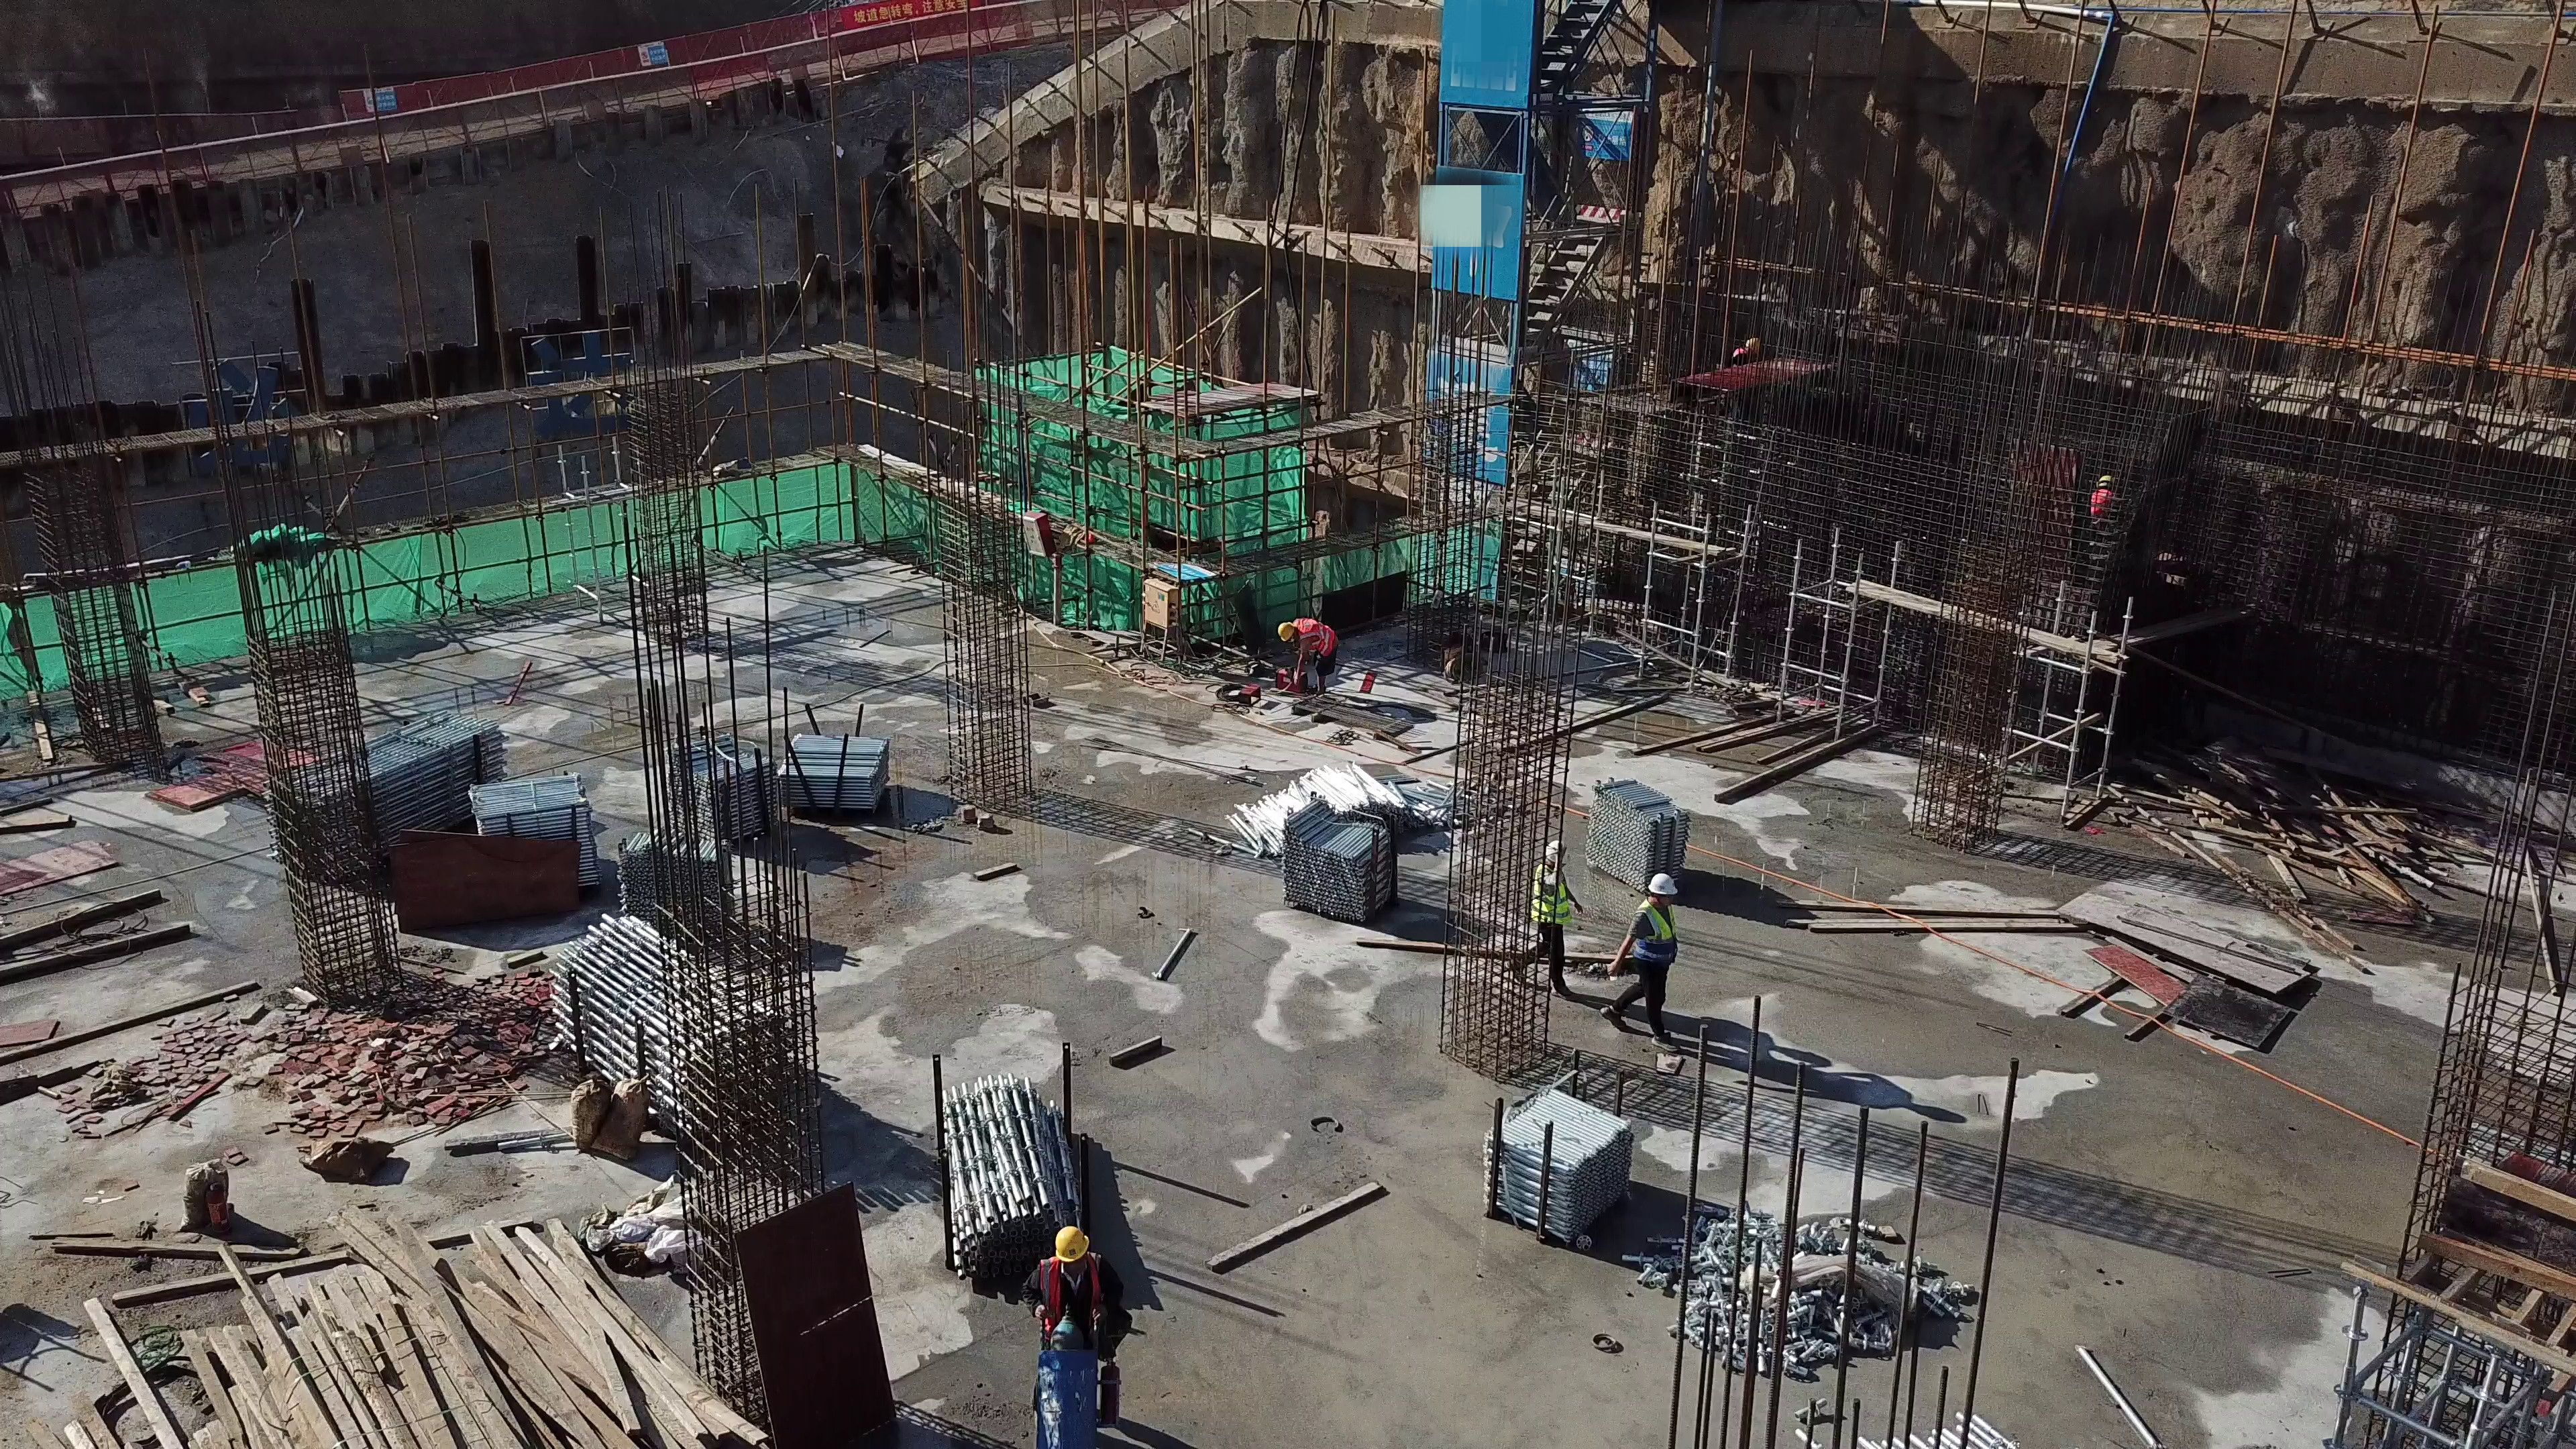ebox: (1136, 572, 1191, 655)
fence: (646, 19, 1020, 95), (349, 65, 636, 115), (9, 157, 206, 215), (209, 127, 413, 178)
helmet: (1053, 1224, 1090, 1264), (1646, 870, 1678, 898), (1543, 840, 1566, 863), (1279, 622, 1295, 641), (1748, 336, 1760, 346), (2101, 472, 2110, 484)
person: (1020, 1225, 1109, 1418), (1602, 873, 1679, 1057), (1513, 841, 1576, 999), (1278, 621, 1338, 694), (2086, 472, 2112, 524), (1731, 338, 1762, 362)
scaffold: (554, 909, 777, 1125), (275, 718, 487, 877), (932, 1072, 1081, 1259), (1233, 767, 1450, 870), (1497, 1085, 1619, 1226), (480, 784, 610, 894), (1291, 790, 1389, 924), (667, 732, 774, 853), (608, 822, 724, 929), (1587, 773, 1679, 883), (775, 725, 875, 816)
slogan: (836, 1, 983, 34), (1574, 103, 1634, 161), (1148, 561, 1212, 588), (365, 89, 400, 113), (635, 42, 666, 65)
vest: (1036, 1255, 1104, 1338), (1632, 902, 1678, 962), (1534, 863, 1572, 925), (1295, 619, 1332, 657), (2092, 490, 2106, 513)
wood: (156, 1256, 708, 1449)
